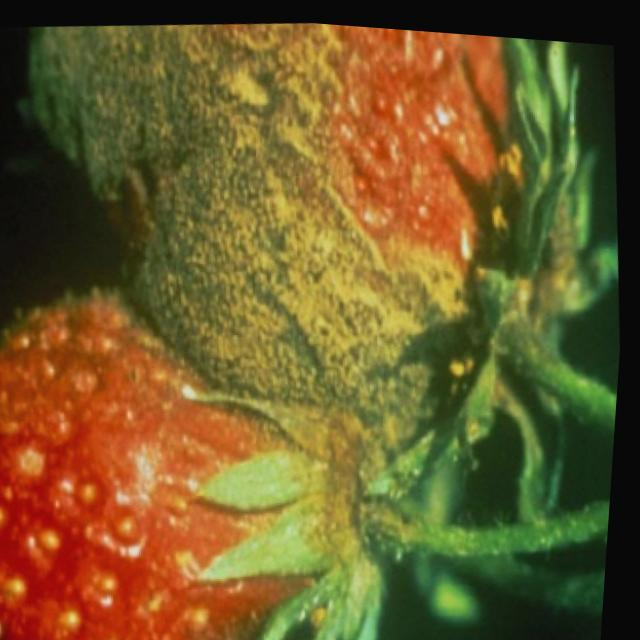Gray Mold: (30, 18, 601, 489), (0, 283, 421, 640)
